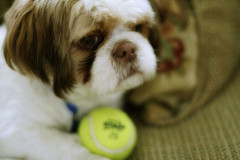tennis ball: (77, 107, 137, 159)
